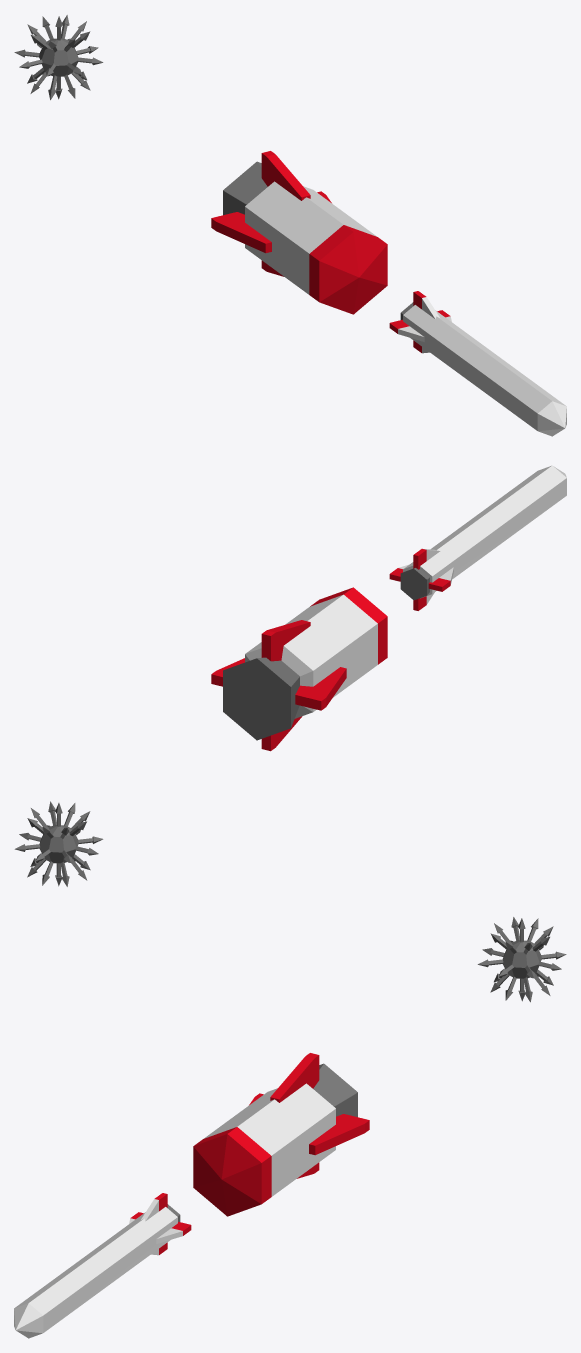
The model's file is DefenceBatteryProjectiles.fbx.
The picture shows the model from 3 angles, top to bottom: view 1: azimuth 30°, elevation 25°; view 2: azimuth 150°, elevation 25°; view 3: azimuth 330°, elevation 25°; orthographic projection.
Parts seen in each view (by area): view 1: Nuke, HE missile, Mine; view 2: Nuke, HE missile, Mine; view 3: Nuke, HE missile, Mine.
Part boxes in pixels (x1=…): Nuke: x1=211, y1=151, x2=387, y2=314; HE missile: x1=389, y1=291, x2=566, y2=436; Mine: x1=14, y1=15, x2=103, y2=100; Nuke: x1=211, y1=587, x2=387, y2=751; HE missile: x1=389, y1=465, x2=566, y2=610; Mine: x1=14, y1=801, x2=103, y2=886; Nuke: x1=193, y1=1053, x2=369, y2=1216; HE missile: x1=14, y1=1193, x2=191, y2=1338; Mine: x1=477, y1=917, x2=566, y2=1002.
Bounding box in the file's own units: 68.42 × 68.42 × 570.
